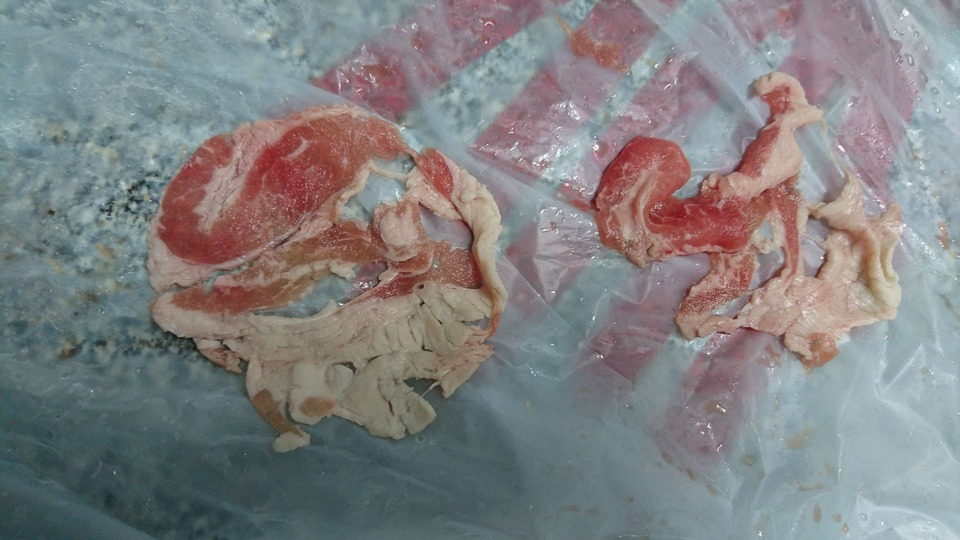restructured meat: (142, 104, 508, 449), (589, 73, 914, 358)
